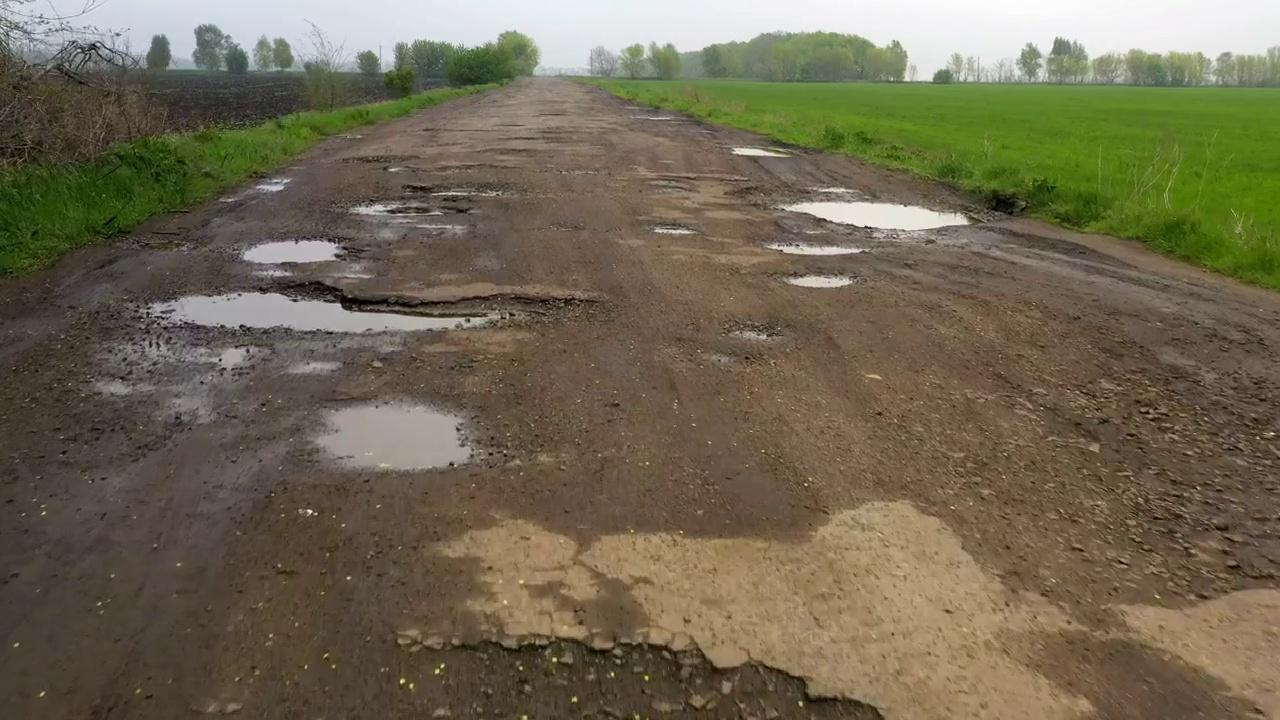bache: (374, 631, 882, 719), (147, 283, 593, 333), (316, 403, 471, 470), (784, 201, 967, 230), (351, 201, 469, 222), (243, 240, 342, 263), (406, 183, 517, 196), (766, 242, 866, 255), (727, 322, 782, 341), (787, 274, 856, 287), (650, 224, 698, 233)
